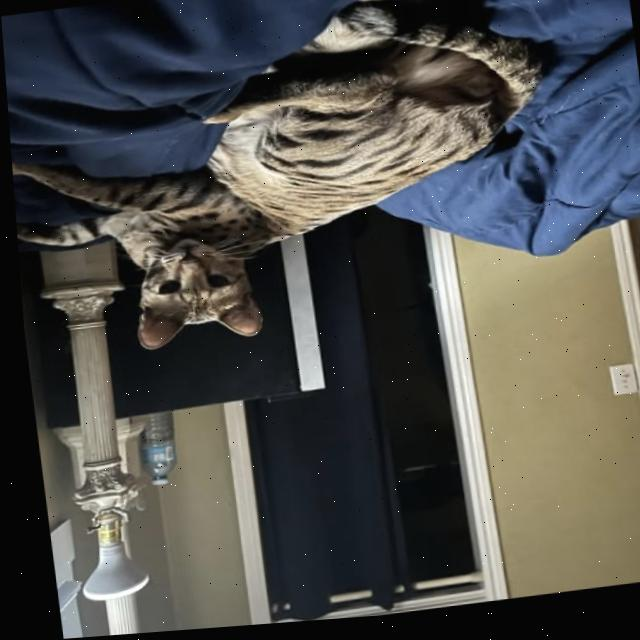Savannah: (0, 0, 574, 371)
